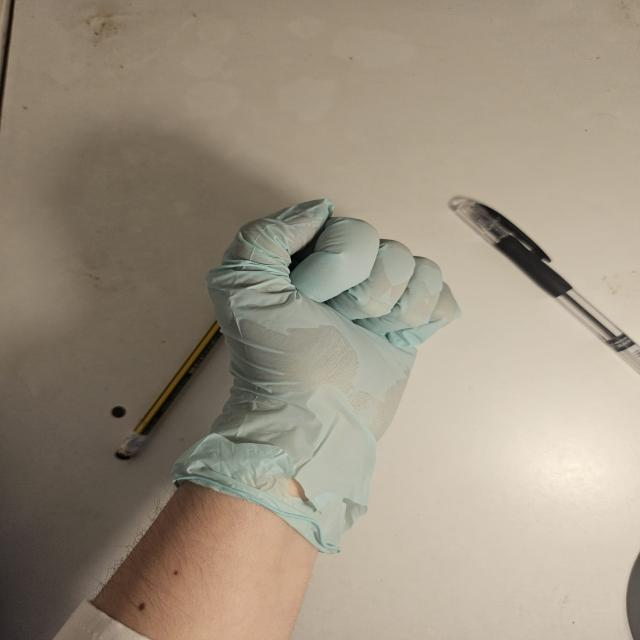gloves_damaged: (186, 198, 463, 560)
